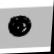correct: (5, 14, 33, 38)
